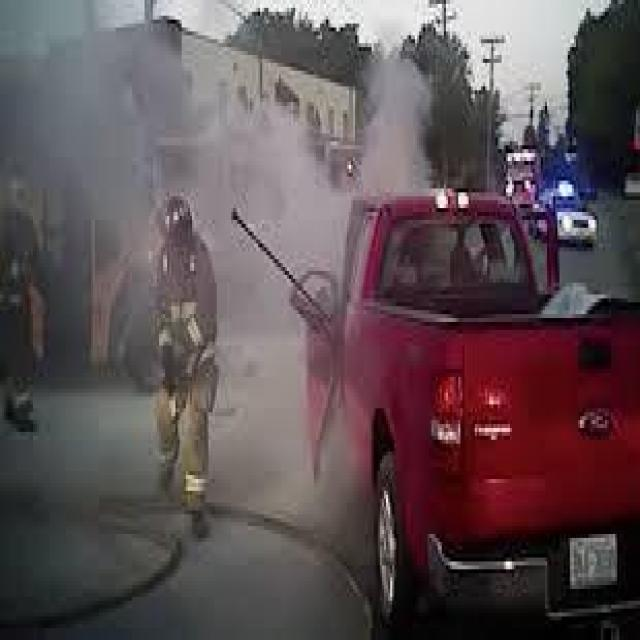smoke: (223, 126, 364, 475)
